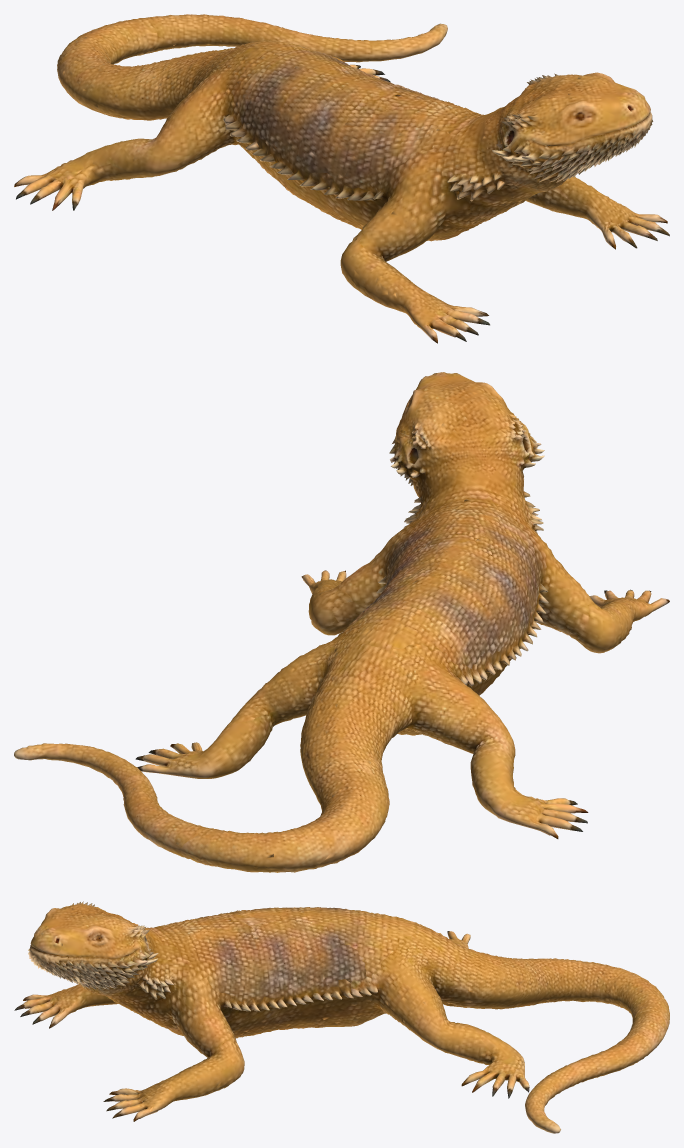
Rendered from MZ4250 - Bearded Dragon Lizard.glb.
The picture shows the model from 3 angles, top to bottom: view 1: azimuth 30°, elevation 25°; view 2: azimuth 150°, elevation 25°; view 3: azimuth 270°, elevation 25°; orthographic projection. The views are drawn at different scales.
Visible parts, largest first — view 1: ORGANIC BASE SPHERE.001; view 2: ORGANIC BASE SPHERE.001; view 3: ORGANIC BASE SPHERE.001.
Part boxes in pixels (x1,y1,x2,y2): ORGANIC BASE SPHERE.001: (14,14,669,343); ORGANIC BASE SPHERE.001: (14,372,669,872); ORGANIC BASE SPHERE.001: (14,901,669,1133).
Bounding box in the file's own units: 31.34 × 11.62 × 42.77.
1 material, 1 textured.
